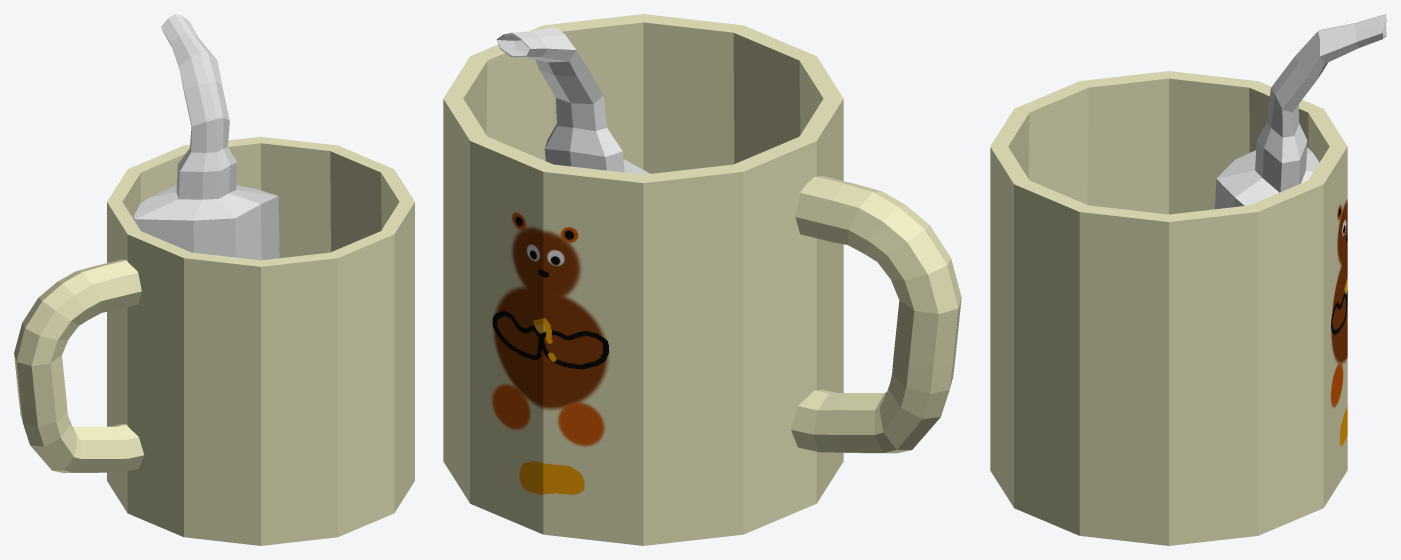
The model's file is KupaPipetli.fbx.
3 views of the same model, side by side, from view 1: azimuth 30°, elevation 25°; view 2: azimuth 150°, elevation 25°; view 3: azimuth 270°, elevation 25° (orthographic). The views are drawn at different scales.
Parts seen in each view (by area): view 1: Cylinder.019, Cylinder.016; view 2: Cylinder.019, Cylinder.016; view 3: Cylinder.019, Cylinder.016.
Boxes of the visible parts, left/top/right/bottom form: Cylinder.019: left=14, top=136, right=414, bottom=545; Cylinder.016: left=133, top=14, right=279, bottom=260; Cylinder.019: left=443, top=14, right=961, bottom=545; Cylinder.016: left=497, top=27, right=650, bottom=174; Cylinder.019: left=990, top=71, right=1347, bottom=545; Cylinder.016: left=1215, top=14, right=1386, bottom=209.
Size of the model in its own units: 55.67 by 56 by 43.73.
1 material, 1 textured.
